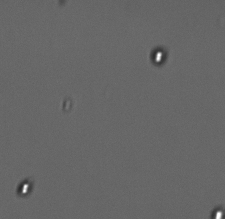Dead Cell: (61, 96, 74, 113)
Living Cell: (148, 46, 168, 67), (15, 176, 34, 198)
